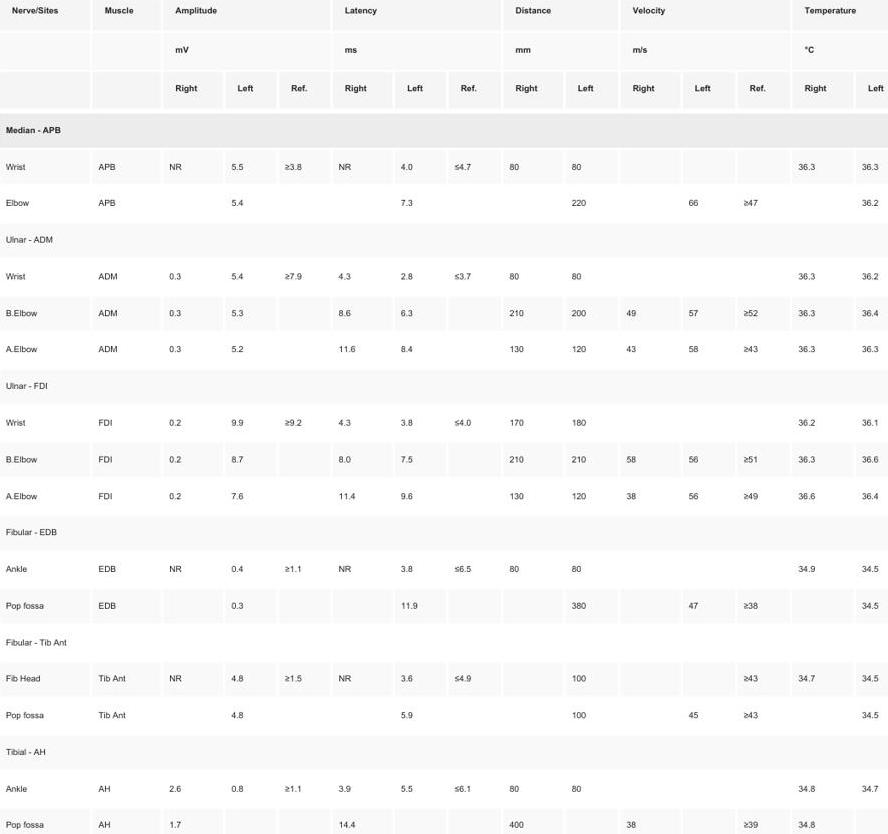table: (5, 4, 882, 829)
table column: (77, 4, 150, 829), (5, 4, 77, 829), (150, 4, 213, 829), (781, 4, 843, 829), (492, 4, 553, 829), (609, 4, 670, 829), (322, 4, 382, 829), (553, 4, 609, 829), (670, 4, 726, 829), (213, 4, 268, 829), (382, 4, 437, 829), (437, 4, 492, 829), (726, 4, 781, 829), (268, 4, 322, 829), (843, 4, 882, 829)
table column header: (5, 4, 882, 108)
table projected row header: (5, 108, 882, 147), (5, 220, 882, 257), (5, 732, 882, 769), (5, 367, 882, 403), (5, 513, 882, 549), (5, 623, 882, 659)
table row: (5, 4, 882, 68), (5, 68, 882, 108), (5, 108, 882, 147), (5, 147, 882, 184), (5, 220, 882, 257), (5, 293, 882, 330), (5, 330, 882, 367), (5, 403, 882, 440), (5, 476, 882, 513), (5, 549, 882, 586), (5, 586, 882, 623), (5, 659, 882, 696), (5, 732, 882, 769), (5, 184, 882, 220), (5, 257, 882, 293), (5, 367, 882, 403), (5, 440, 882, 476), (5, 513, 882, 549), (5, 623, 882, 659), (5, 696, 882, 732), (5, 769, 882, 805), (5, 805, 882, 829)
table spanning cell: (150, 4, 322, 68), (609, 4, 781, 68), (322, 4, 492, 68), (77, 4, 150, 108), (5, 4, 77, 108), (492, 4, 609, 68), (781, 4, 882, 68)
